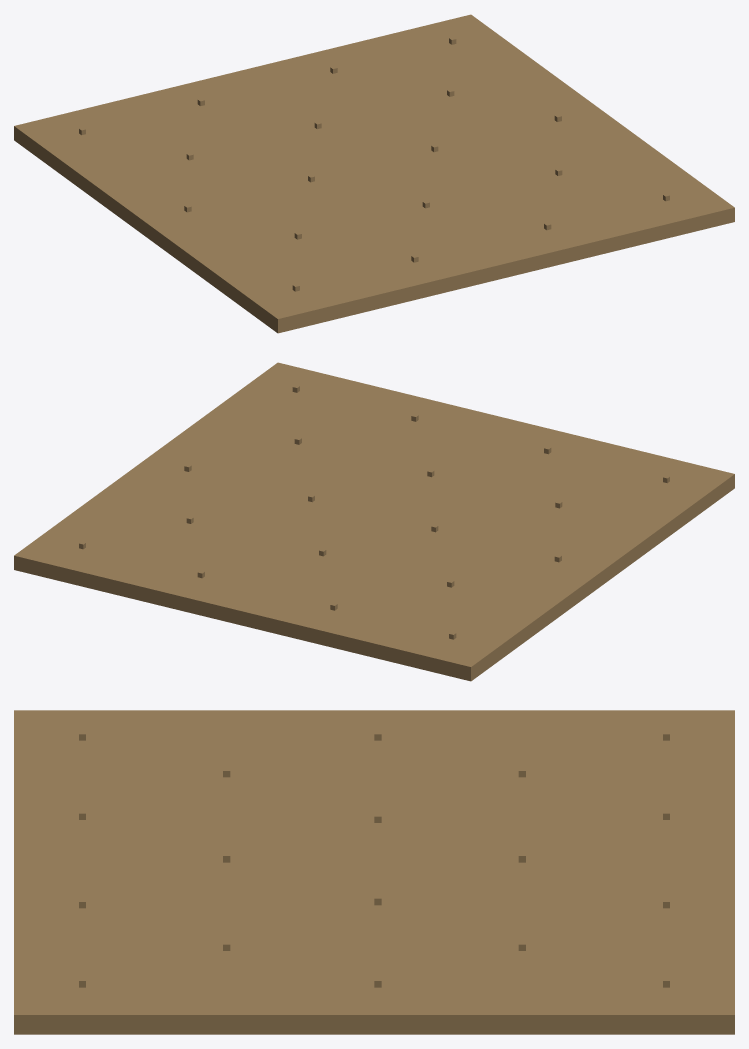
File: Korean_floor_02.FBX
3 renders of one model, top to bottom at view 1: azimuth 30°, elevation 25°; view 2: azimuth 150°, elevation 25°; view 3: azimuth 270°, elevation 25°, orthographic. The views are drawn at different scales.
Visible parts, largest first — view 1: Voxel_Korean_traditional village-29; view 2: Voxel_Korean_traditional village-29; view 3: Voxel_Korean_traditional village-29.
Boxes of the visible parts, bbox=[...] form: Voxel_Korean_traditional village-29: bbox=[14, 14, 734, 333]; Voxel_Korean_traditional village-29: bbox=[14, 362, 734, 681]; Voxel_Korean_traditional village-29: bbox=[14, 710, 734, 1034].
Bounding box in the file's own units: 99.98 × 4 × 99.98.
Materials: 1 (1 with a texture image).
